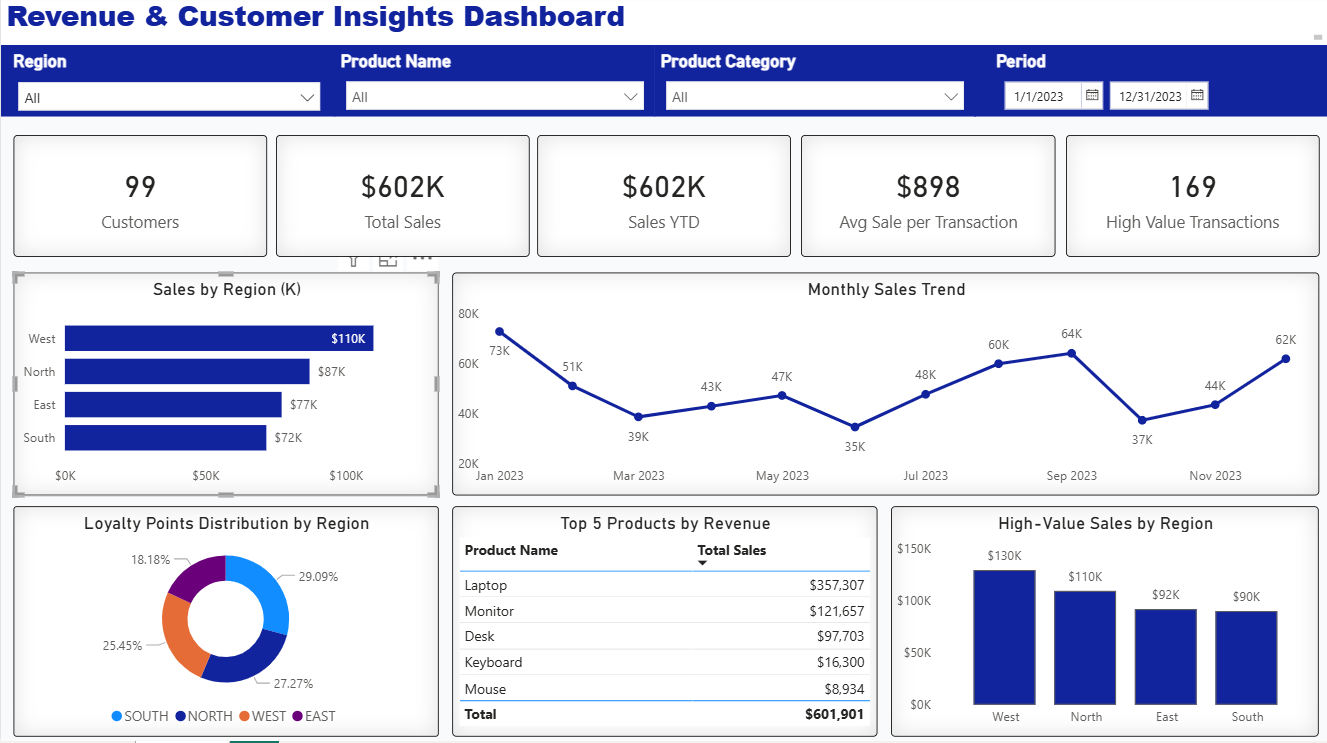

The dashboard page shown, as its layout file describes it:
{"tool":"powerbi","page":{"name":"Page 1","canvas":[1280,720],"ordinal":0},"visuals":[{"type":"barChart","title":"Sales by Region (K)","fields":{"Category":["gold transactions.region"],"Y":["gold customers.Total Sales"]},"box":[12.4,267.9,410.2,215.5],"z":0},{"type":"lineChart","title":"Monthly Sales Trend","fields":{"Y":["Sum(gold transactions.total_value)"],"Category":["gold transactions.transaction_month"]},"box":[435,267.9,836.9,215.5],"z":1000},{"type":"tableEx","title":"Top 5 Products by Revenue","fields":{"Values":["gold products.product_name","gold customers.Total Sales"]},"box":[435,493.1,410.2,222.4],"z":2000},{"type":"donutChart","title":"Loyalty Points Distribution by Region","fields":{"Category":["gold customers.region"],"Y":["CountNonNull(gold customers.loyalty_points)"]},"box":[12.4,493.1,410.2,222.4],"z":3000},{"type":"slicer","title":"Period","fields":{"Values":["gold transactions.transaction_date"]},"box":[939.8,48.3,340.2,68.8],"z":4000},{"type":"card","fields":{"Values":["gold customers.Total Sales"]},"box":[265.2,135.3,244.5,117.4],"z":5000},{"type":"card","fields":{"Values":["gold customers.Avg Sale per Transaction"]},"box":[772,135.3,245.8,117.4],"z":6000},{"type":"card","fields":{"Values":["gold customers.Sales YTD"]},"box":[517.9,135.3,244.5,117.4],"z":7000},{"type":"card","fields":{"Values":["Count(gold customers.customer_id)"]},"box":[12.4,135.3,244.5,117.4],"z":8000},{"type":"card","fields":{"Values":["gold customers.High Value Transactions"]},"box":[1027.5,135.3,244.5,117.4],"z":9000},{"type":"clusteredColumnChart","title":"High-Value Sales by Region","fields":{"Category":["gold transactions.region"],"Y":["gold transactions.High Value Sales"]},"box":[859,493.1,412.9,222.4],"z":10000},{"type":"slicer","title":"Product Category","fields":{"Values":["gold products.category"]},"box":[631.2,48.3,309.4,69.1],"z":11000},{"type":"slicer","title":"Product Name","fields":{"Values":["gold products.product_name"]},"box":[322.1,48.3,308.8,68.8],"z":12000},{"type":"slicer","title":"Region","fields":{"Values":["gold transactions.region"]},"box":[0,48.3,322.1,68.8],"z":13000},{"type":"textbox","title":"Revenue & Customer Insights Dashboard","box":[0,0,1280.3,48.3],"z":14000}]}

Visuals, with their boxes in screenshot pixels (x1, y1, x2, y2), scaled from the page's 1280x720 canvas onto the 1327x743 screenshot:
"Sales by Region (K)" barChart: <region>13, 276, 438, 499</region>
"Monthly Sales Trend" lineChart: <region>451, 276, 1319, 499</region>
"Top 5 Products by Revenue" tableEx: <region>451, 509, 876, 738</region>
"Loyalty Points Distribution by Region" donutChart: <region>13, 509, 438, 738</region>
"Period" slicer: <region>974, 50, 1326, 121</region>
card - gold customers.Total Sales: <region>275, 140, 528, 261</region>
card - gold customers.Avg Sale per Transaction: <region>800, 140, 1055, 261</region>
card - gold customers.Sales YTD: <region>537, 140, 790, 261</region>
card - Count(gold customers.customer_id): <region>13, 140, 266, 261</region>
card - gold customers.High Value Transactions: <region>1065, 140, 1319, 261</region>
"High-Value Sales by Region" clusteredColumnChart: <region>891, 509, 1319, 738</region>
"Product Category" slicer: <region>654, 50, 975, 121</region>
"Product Name" slicer: <region>334, 50, 654, 121</region>
"Region" slicer: <region>0, 50, 334, 121</region>
"Revenue & Customer Insights Dashboard" textbox: <region>0, 0, 1326, 50</region>
